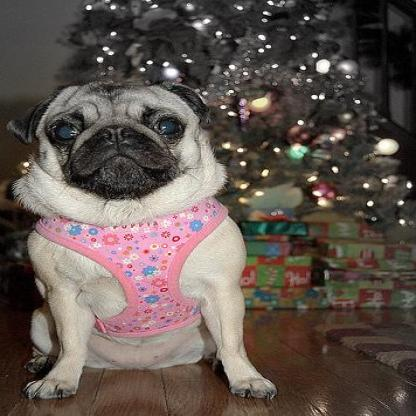pug: (7, 79, 279, 400)
